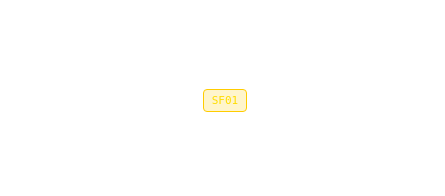
Test: Inspector Component (Story 7.7) › FlagsList (AC #2, #6) › should toggle flag detail off when clicking same flag
Click the button with test id "flag-SF01". click: (225, 100)
box: [203,88,247,112]
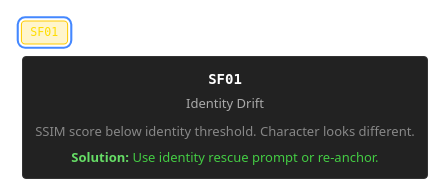
Check: the element with test id "flag-detail" is shown, box [22,56,428,179]
Click the button with test id "flag-SF01". click: (44, 33)
box: [21,20,68,45]
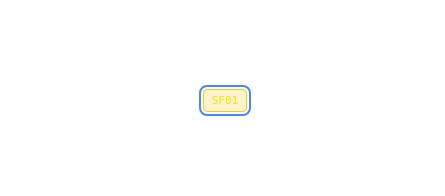
Check: the element with test id "flag-detail" is gone
